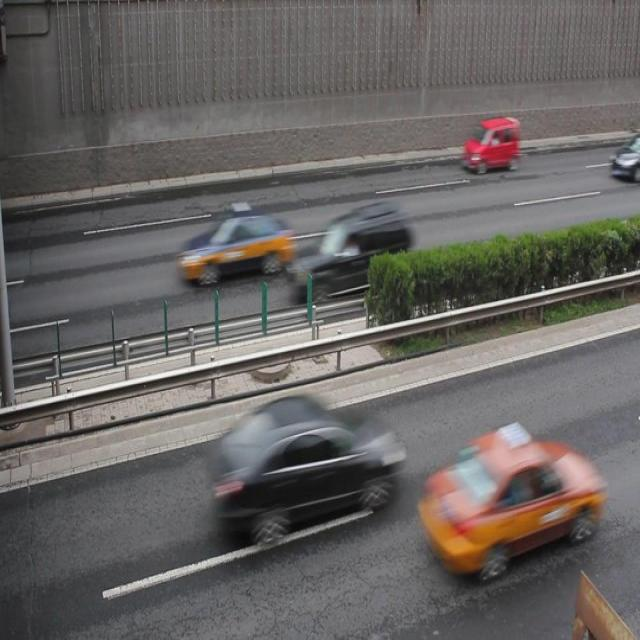car: (208, 390, 396, 543), (418, 420, 592, 580), (178, 206, 293, 286), (462, 117, 518, 172)
truck: (287, 202, 415, 303)
